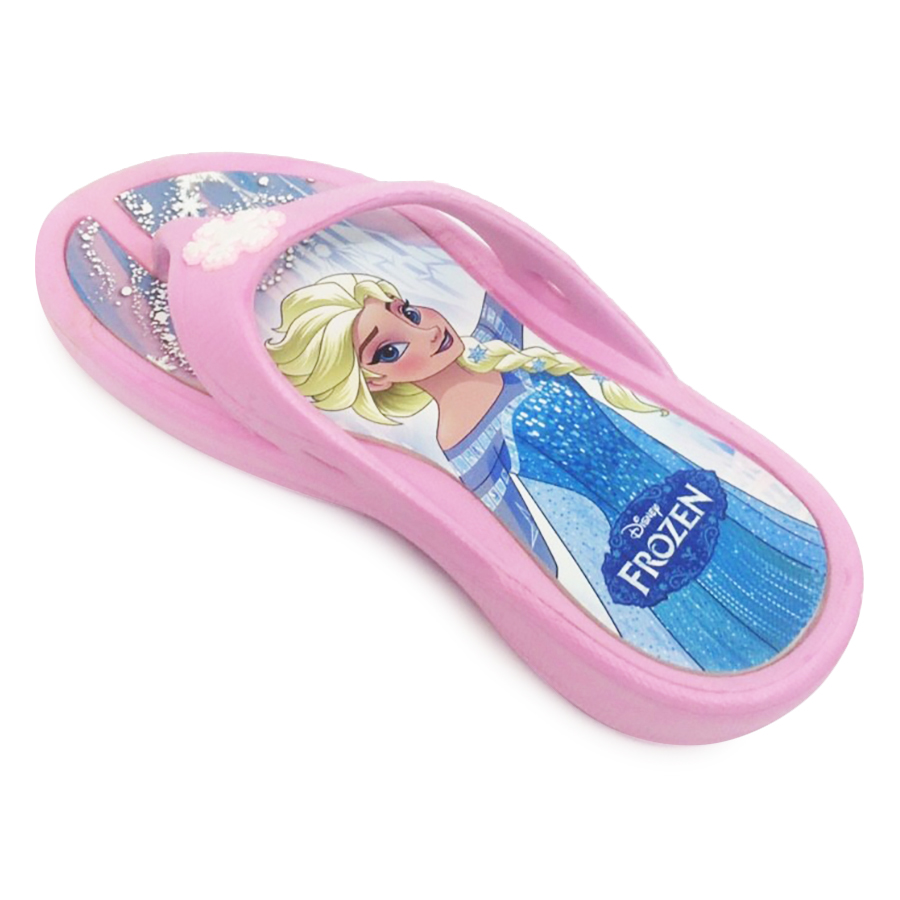Disney: (619, 491, 669, 547)
